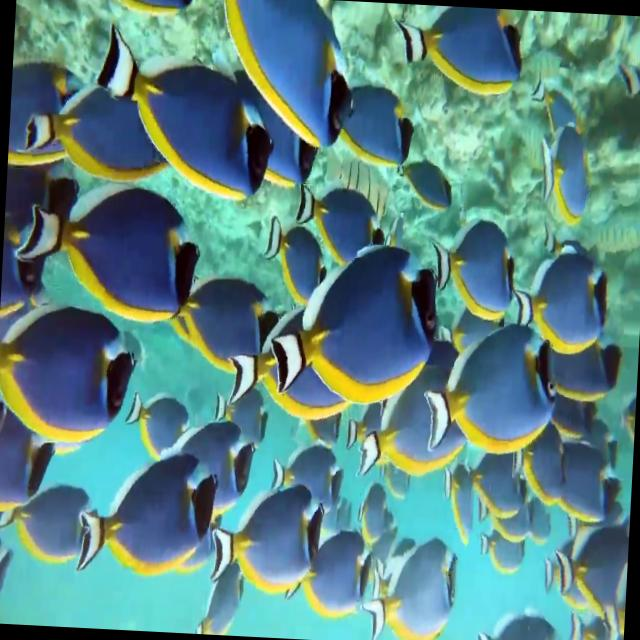fish: (94, 23, 282, 201), (13, 177, 206, 326), (271, 240, 444, 405), (216, 0, 360, 148), (0, 295, 138, 449), (75, 443, 218, 580), (422, 320, 560, 456), (26, 72, 182, 184), (210, 482, 326, 598), (389, 3, 526, 98), (172, 272, 282, 374), (514, 242, 610, 354), (361, 536, 461, 640), (432, 212, 520, 324), (0, 474, 98, 569), (294, 182, 394, 266), (284, 526, 374, 618), (556, 522, 630, 620), (338, 82, 416, 165), (536, 121, 592, 226), (265, 222, 330, 306), (125, 392, 193, 469), (464, 442, 528, 518), (213, 379, 270, 450), (394, 154, 458, 215)
